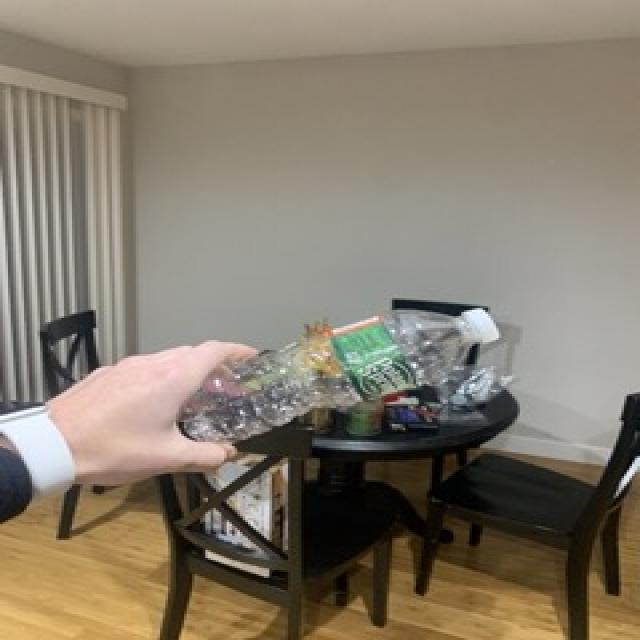water_bottle: (142, 300, 503, 459)
